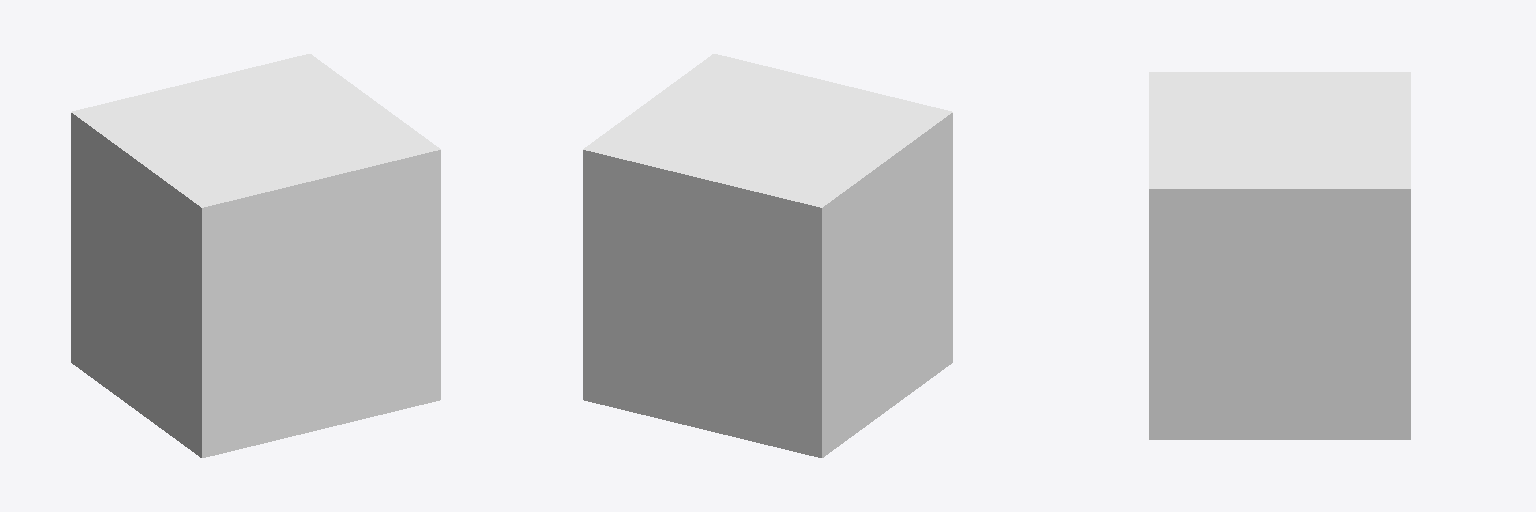
The model's file is DeepDirt.obj.
The picture shows the model from 3 angles: view 1: azimuth 30°, elevation 25°; view 2: azimuth 150°, elevation 25°; view 3: azimuth 270°, elevation 25°; orthographic projection.
Size of the model in its own units: 20 by 20 by 19.